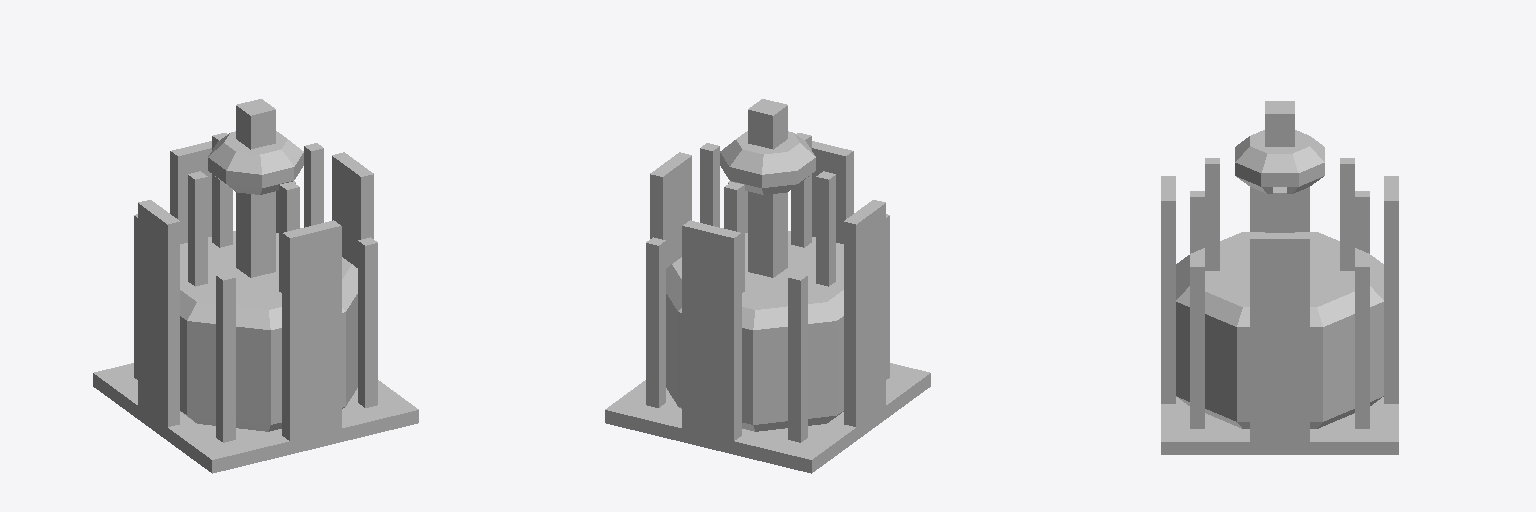
The model's file is electrostaticCompressor.obj.
3 views of the same model, side by side, from view 1: azimuth 30°, elevation 25°; view 2: azimuth 150°, elevation 25°; view 3: azimuth 270°, elevation 25° (orthographic).
Parts seen in each view (by area): view 1: Group_003, Group_10_001, Group_001, Group_10_003, Group_002, Group_004, Group_10_004, Group_13_001, Group_13_003, Group_10_002, Group_12_002, Group_12_001 (+3 smaller); view 2: Group_003, Group_10_002, Group_001, Group_10_003, Group_002, Group_004, Group_10_004, Group_13_004, Group_13_002, Group_10_001, Group_12_002, Group_12_001 (+3 smaller); view 3: Group_003, Group_10_004, Group_001, Group_004, Group_10_001, Group_10_002, Group_13_001, Group_13_004, Group_002, Group_12_003, Group_12_004, Group_10_003 (+3 smaller).
Boxes of the visible parts, box(x1,y1,x2,y2) form: Group_003: box(180, 231, 357, 431); Group_10_001: box(282, 220, 341, 440); Group_001: box(93, 363, 418, 473); Group_10_003: box(138, 200, 179, 426); Group_002: box(236, 99, 275, 277); Group_004: box(208, 131, 303, 194); Group_10_004: box(332, 152, 373, 267); Group_13_001: box(358, 237, 377, 407); Group_13_003: box(216, 272, 235, 442); Group_10_002: box(170, 141, 211, 243); Group_12_002: box(188, 171, 207, 286); Group_12_001: box(304, 143, 323, 227); Group_003: box(666, 231, 843, 431); Group_10_002: box(682, 220, 741, 440); Group_001: box(605, 363, 930, 473); Group_10_003: box(844, 200, 885, 426); Group_002: box(748, 99, 787, 277); Group_004: box(720, 131, 815, 194); Group_10_004: box(650, 152, 691, 267); Group_13_004: box(646, 237, 665, 407); Group_13_002: box(788, 272, 807, 442); Group_10_001: box(812, 141, 853, 243); Group_12_002: box(816, 171, 835, 286); Group_12_001: box(700, 143, 719, 227); Group_003: box(1176, 232, 1383, 428); Group_10_004: box(1250, 233, 1309, 441); Group_001: box(1161, 397, 1398, 454); Group_004: box(1235, 130, 1324, 193); Group_10_001: box(1161, 176, 1175, 403); Group_10_002: box(1384, 176, 1398, 403); Group_13_001: box(1190, 260, 1204, 428); Group_13_004: box(1355, 260, 1369, 428); Group_002: box(1265, 101, 1294, 232); Group_12_003: box(1205, 158, 1219, 270); Group_12_004: box(1340, 158, 1354, 270); Group_10_003: box(1250, 187, 1309, 231).
Bounding box in the file's own units: 16 × 22 × 16.